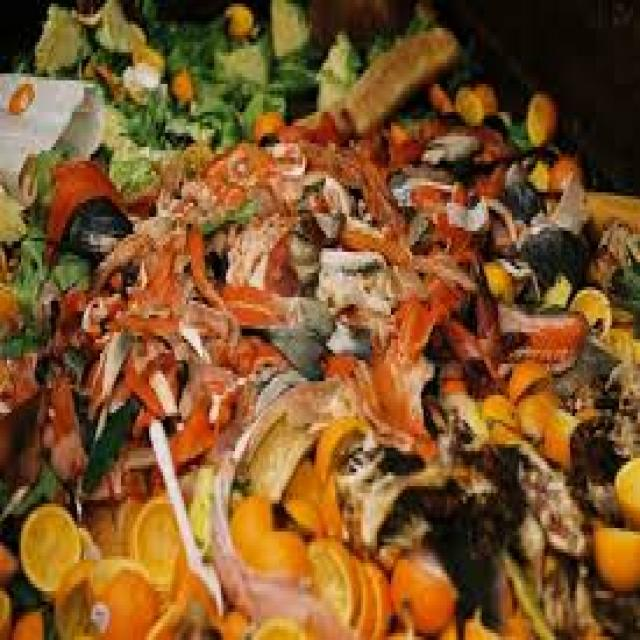food_waste: (36, 68, 615, 596)
